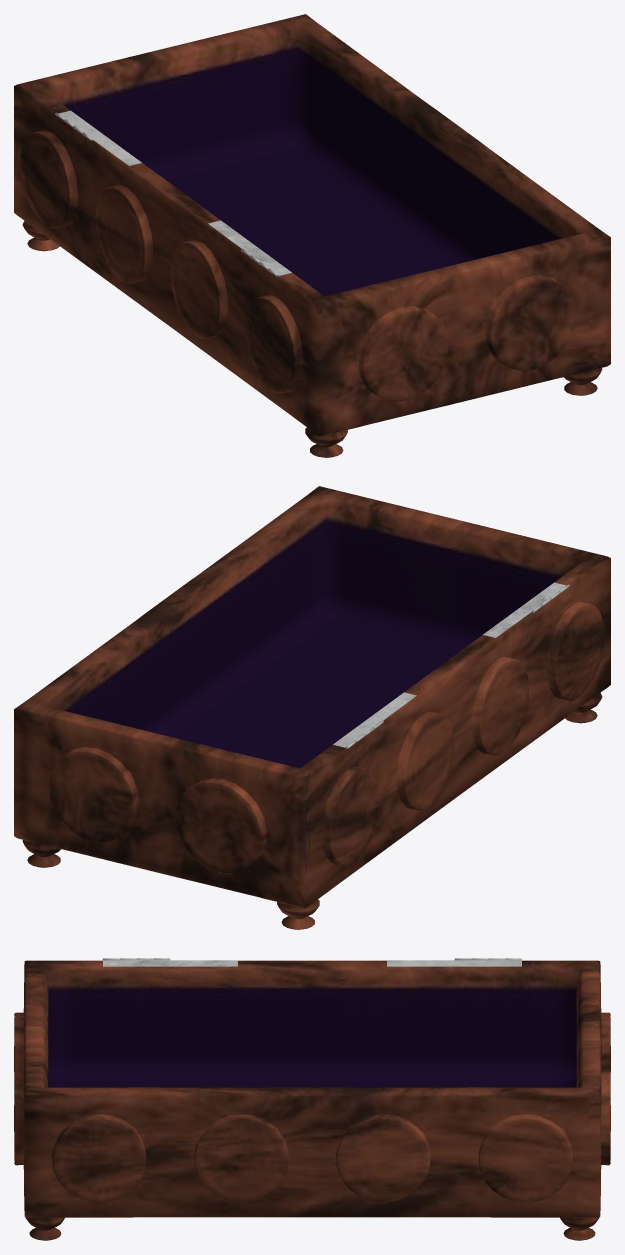
The model's file is music_box_base.gltf.
3 views of the same model, one above another, from view 1: azimuth 30°, elevation 25°; view 2: azimuth 150°, elevation 25°; view 3: azimuth 270°, elevation 25° (orthographic). The views are drawn at different scales.
Visible parts, largest first — view 1: Casket_bot_1, Casket_hinge_top_3; view 2: Casket_bot_1, Casket_hinge_top_3; view 3: Casket_bot_1, Casket_hinge_top_3.
Part boxes in pixels (x1,y1,x2,y2): Casket_bot_1: [14, 14, 610, 457]; Casket_hinge_top_3: [55, 110, 291, 276]; Casket_bot_1: [14, 486, 610, 929]; Casket_hinge_top_3: [333, 582, 569, 748]; Casket_bot_1: [14, 960, 610, 1240]; Casket_hinge_top_3: [102, 958, 521, 966].
Bounding box in the file's own units: 2.78 × 1.4 × 4.89.
1 material, 1 textured.
